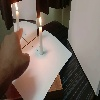fire: (38, 15, 42, 26)
